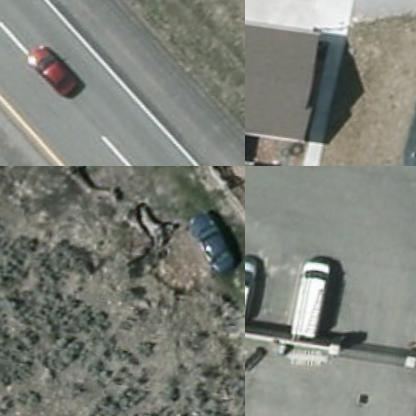car: (181, 204, 244, 273), (22, 36, 93, 96), (245, 248, 264, 326)
van: (295, 254, 337, 338)
